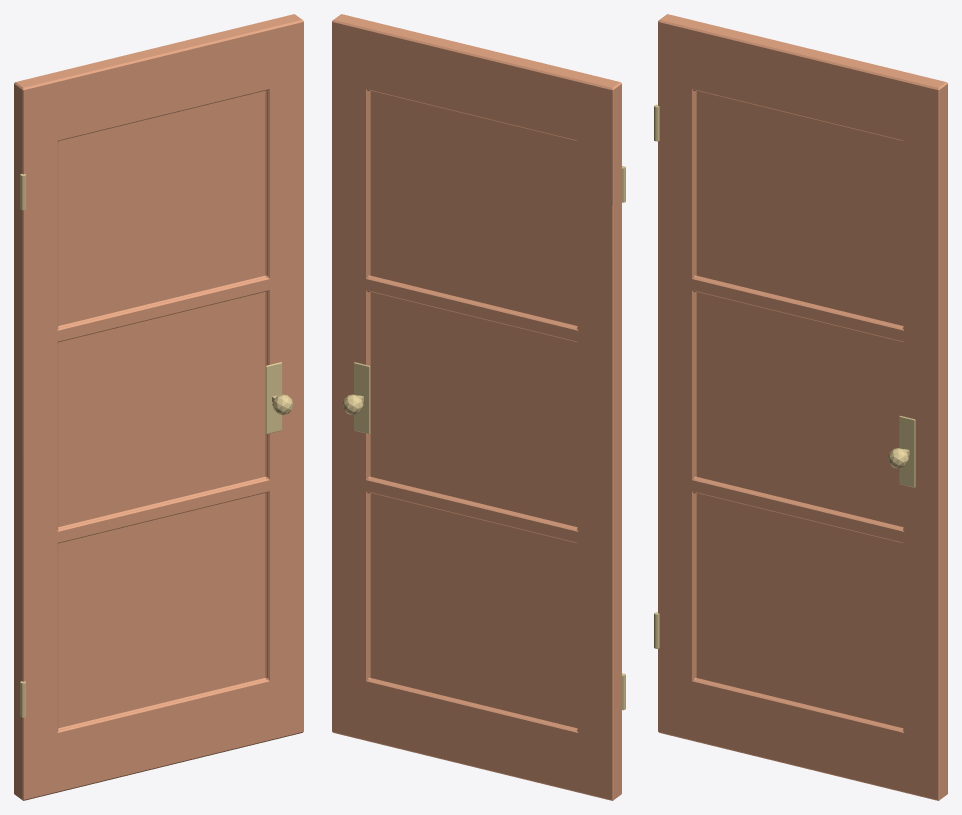
Rendered from door_leaf_room.glb.
3 renders of one model, left to right at view 1: azimuth 30°, elevation 25°; view 2: azimuth 150°, elevation 25°; view 3: azimuth 330°, elevation 25°, orthographic.
Visible parts, largest first — view 1: door_leaf_room_door, door_leaf_room_brass; view 2: door_leaf_room_door, door_leaf_room_brass; view 3: door_leaf_room_door, door_leaf_room_brass.
Part boxes in pixels (x1=…): door_leaf_room_door: x1=14, y1=14, x2=303, y2=800; door_leaf_room_brass: x1=20, y1=173, x2=293, y2=717; door_leaf_room_door: x1=332, y1=14, x2=621, y2=800; door_leaf_room_brass: x1=342, y1=166, x2=625, y2=710; door_leaf_room_door: x1=658, y1=14, x2=947, y2=800; door_leaf_room_brass: x1=654, y1=104, x2=915, y2=648.
Size of the model in its own units: 0.868 by 2.08 by 0.206.
